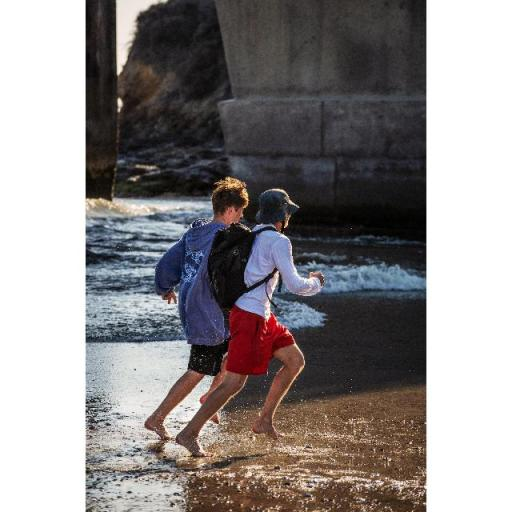Running: (175, 187, 336, 461)
